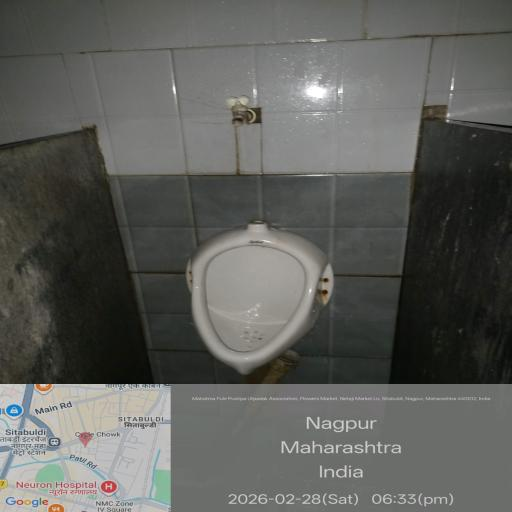clean_floor: (94, 36, 461, 170)
clean_urinal: (159, 228, 372, 373)
partial_dirty_floor: (76, 224, 448, 494)
